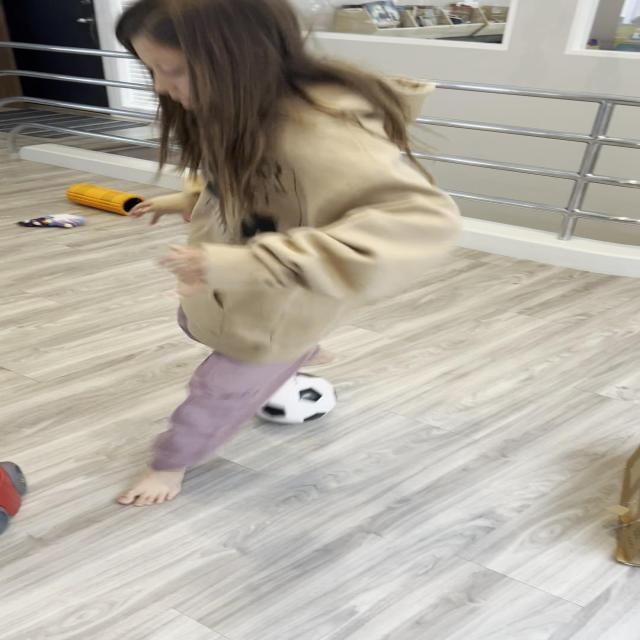Soccer Ball: (248, 371, 338, 423)
